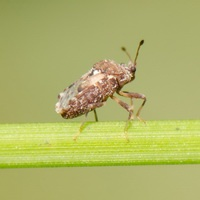insect: (55, 40, 145, 138)
